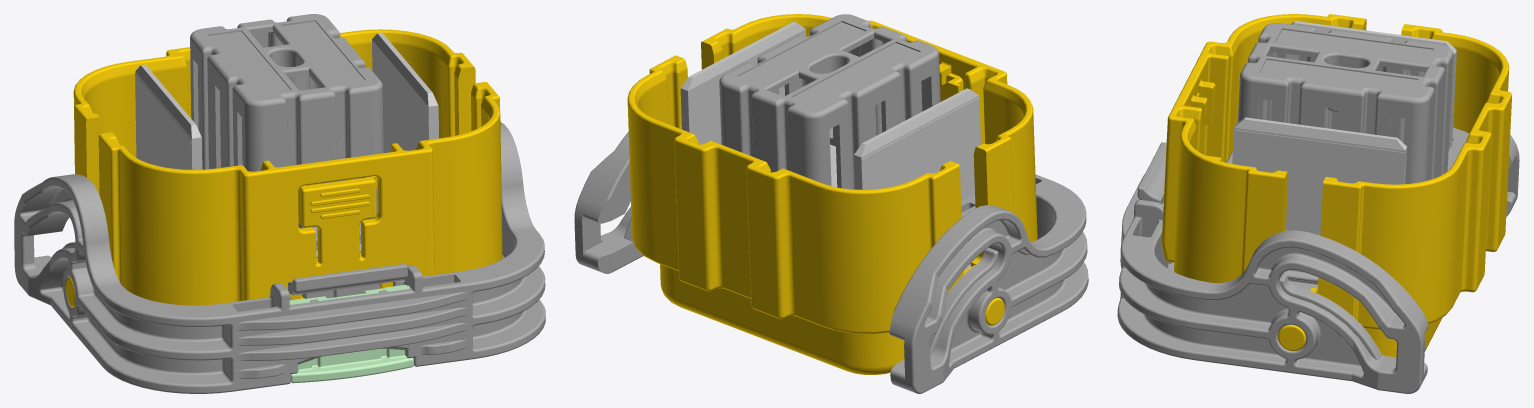
File: DLQ5-T315.glb
3 views of the same model, side by side, from view 1: azimuth 30°, elevation 25°; view 2: azimuth 150°, elevation 25°; view 3: azimuth 270°, elevation 25° (orthographic). The views are drawn at different scales.
Visible parts, largest first — view 1: DLQ5-T315; view 2: DLQ5-T315; view 3: DLQ5-T315.
Boxes of the visible parts, x1,y1,x2,y2 form: DLQ5-T315: [14, 14, 545, 393]; DLQ5-T315: [574, 14, 1088, 393]; DLQ5-T315: [1117, 14, 1519, 393].
Bounding box in the file's own units: 10.01 × 5.67 × 8.26.
